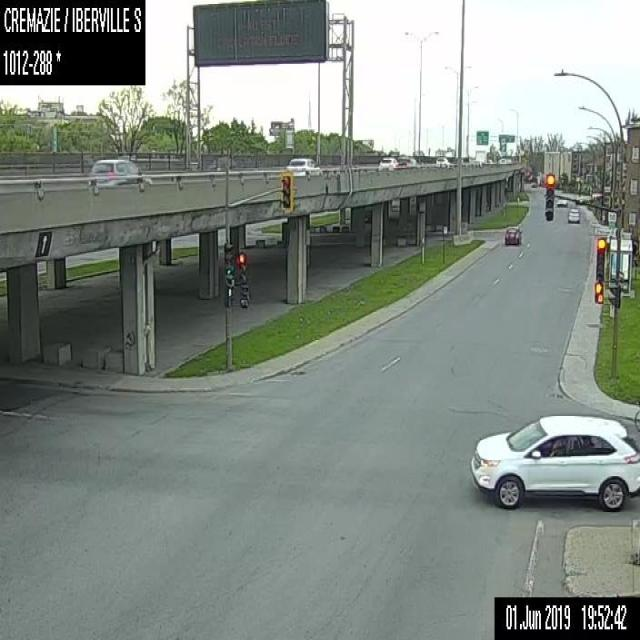vehicle: (469, 412, 639, 512), (89, 156, 152, 183), (285, 154, 320, 173), (393, 155, 420, 169), (504, 224, 522, 245), (378, 155, 397, 168), (567, 207, 580, 223), (435, 155, 450, 167), (474, 149, 486, 163), (556, 196, 567, 206), (471, 159, 481, 165), (530, 180, 536, 187), (486, 158, 492, 164)
